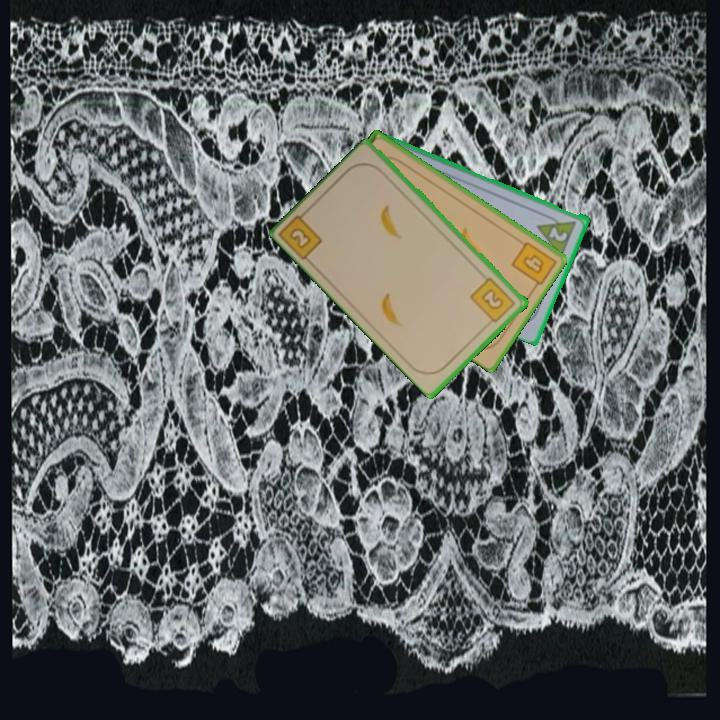2b: (278, 205, 326, 263), (467, 274, 518, 328)
2p: (545, 223, 571, 244)
4b: (508, 238, 559, 293)
